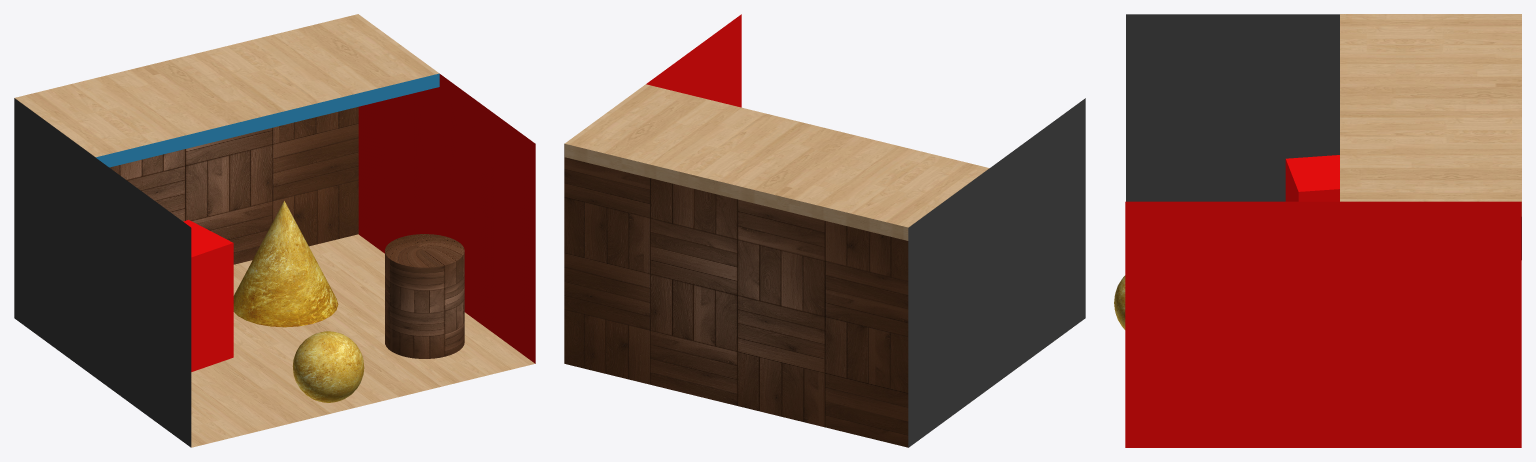
Rendered from PrimitivesModel.obj.
3 views of the same model, side by side, from view 1: azimuth 30°, elevation 25°; view 2: azimuth 150°, elevation 25°; view 3: azimuth 270°, elevation 25° (orthographic). The views are drawn at different scales.
Visible parts, largest first — view 1: Plane004, Box002, Plane005, Plane006, Plane007, Cylinder001, Cone001, Box003, Sphere2Mesh; view 2: Plane007, Plane004, Box002, Plane005; view 3: Plane005, Plane004, Box002, Box003, Sphere2Mesh.
Part boxes in pixels (bbox=[...]): Plane004: bbox=[14, 98, 191, 447]; Box002: bbox=[15, 14, 439, 167]; Plane005: bbox=[358, 74, 535, 363]; Plane006: bbox=[191, 234, 534, 447]; Plane007: bbox=[109, 107, 358, 264]; Cylinder001: bbox=[385, 234, 464, 358]; Cone001: bbox=[233, 201, 338, 327]; Box003: bbox=[183, 220, 233, 371]; Sphere2Mesh: bbox=[292, 331, 364, 402]; Plane007: bbox=[564, 144, 908, 447]; Plane004: bbox=[908, 98, 1085, 447]; Box002: bbox=[564, 84, 989, 240]; Plane005: bbox=[646, 14, 741, 107]; Plane005: bbox=[1125, 201, 1521, 447]; Plane004: bbox=[1126, 14, 1521, 259]; Box002: bbox=[1340, 14, 1521, 216]; Box003: bbox=[1285, 155, 1339, 201]; Sphere2Mesh: bbox=[1114, 275, 1125, 329].
Size of the model in its own units: 242 by 148 by 222.
Materials: 7 (6 with a texture image).
